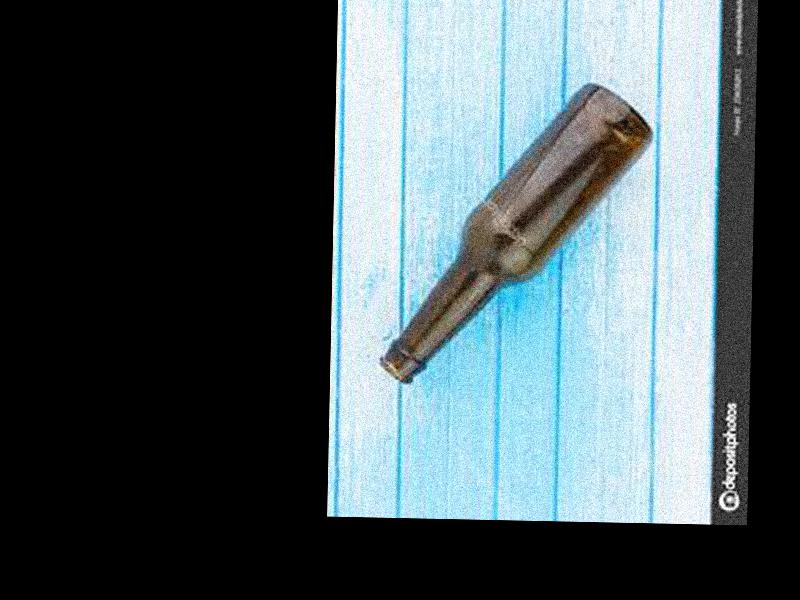Beer: (378, 78, 658, 386)
